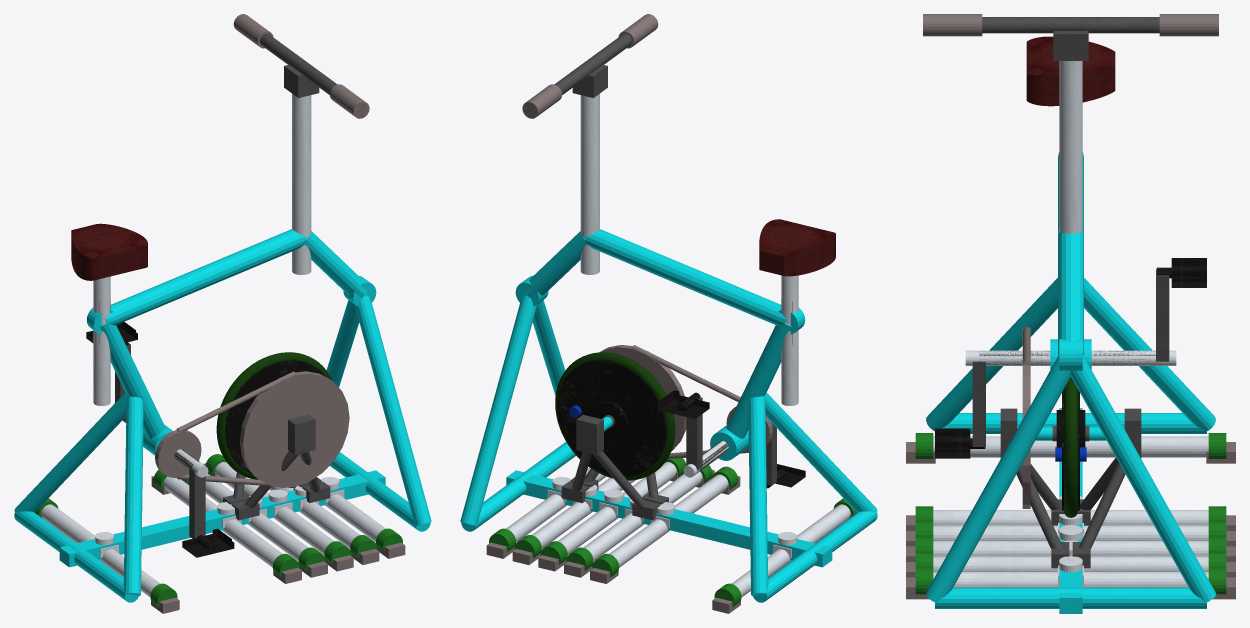
Rendered from Sports_Exercise_bike__0031.glb.
The picture shows the model from 3 angles, left to right: view 1: azimuth 30°, elevation 25°; view 2: azimuth 150°, elevation 25°; view 3: azimuth 270°, elevation 25°; orthographic projection. The views are drawn at different scales.
Visible parts, largest first — view 1: body::frame, body::belt_drive, saddle_post::saddle_pad, handlebar_post::handlebar_post_tube, body::flywheel_axle_support, flywheel::flywheel_disc, saddle_post::saddle_post_tube, flywheel::flywheel_red_ring, stabilizer_foot_4::stabilizer_tube, stabilizer_foot_5::stabilizer_tube, stabilizer_foot_2::stabilizer_tube, crank::crank_body (+8 smaller); view 2: body::frame, flywheel::flywheel_disc, saddle_post::saddle_pad, body::flywheel_axle_support, handlebar_post::handlebar_post_tube, body::belt_drive, flywheel::flywheel_red_ring, stabilizer_foot_4::stabilizer_tube, saddle_post::saddle_post_tube, stabilizer_foot_3::stabilizer_tube, stabilizer_foot_2::stabilizer_tube, crank::crank_body (+8 smaller); view 3: body::frame, body::flywheel_axle_support, handlebar_post::handlebar_post_tube, saddle_post::saddle_pad, stabilizer_foot_0::stabilizer_tube, stabilizer_foot_1::stabilizer_tube, crank::crank_body, stabilizer_foot_2::stabilizer_tube, handlebar_post::handlebar_bar, stabilizer_foot_5::stabilizer_tube, stabilizer_foot_3::stabilizer_tube, stabilizer_foot_4::stabilizer_tube (+11 smaller).
Part boxes in pixels (left/top/right/bottom): body::frame: left=14, top=229, right=431, bottom=602; body::belt_drive: left=155, top=371, right=349, bottom=488; saddle_post::saddle_pad: left=71, top=223, right=147, bottom=280; handlebar_post::handlebar_post_tube: left=292, top=93, right=311, bottom=274; body::flywheel_axle_support: left=223, top=414, right=330, bottom=520; flywheel::flywheel_disc: left=225, top=360, right=324, bottom=474; saddle_post::saddle_post_tube: left=93, top=276, right=110, bottom=405; flywheel::flywheel_red_ring: left=216, top=352, right=332, bottom=479; stabilizer_foot_4::stabilizer_tube: left=163, top=476, right=282, bottom=567; stabilizer_foot_5::stabilizer_tube: left=41, top=504, right=160, bottom=597; stabilizer_foot_2::stabilizer_tube: left=215, top=462, right=333, bottom=554; crank::crank_body: left=115, top=343, right=205, bottom=538; body::frame: left=460, top=229, right=877, bottom=602; flywheel::flywheel_disc: left=557, top=360, right=666, bottom=477; saddle_post::saddle_pad: left=759, top=219, right=835, bottom=276; body::flywheel_axle_support: left=561, top=414, right=668, bottom=520; handlebar_post::handlebar_post_tube: left=580, top=93, right=599, bottom=274; body::belt_drive: left=600, top=345, right=772, bottom=459; flywheel::flywheel_red_ring: left=555, top=352, right=675, bottom=480; stabilizer_foot_4::stabilizer_tube: left=609, top=474, right=728, bottom=567; saddle_post::saddle_post_tube: left=781, top=275, right=798, bottom=405; stabilizer_foot_3::stabilizer_tube: left=583, top=472, right=702, bottom=561; stabilizer_foot_2::stabilizer_tube: left=558, top=462, right=676, bottom=554; crank::crank_body: left=686, top=397, right=776, bottom=485; body::frame: left=925, top=152, right=1216, bottom=613; body::flywheel_axle_support: left=1000, top=408, right=1141, bottom=568; handlebar_post::handlebar_post_tube: left=1059, top=61, right=1082, bottom=233; saddle_post::saddle_pad: left=1026, top=36, right=1115, bottom=106; stabilizer_foot_0::stabilizer_tube: left=933, top=572, right=1208, bottom=587; stabilizer_foot_1::stabilizer_tube: left=933, top=556, right=1208, bottom=571; crank::crank_body: left=972, top=269, right=1169, bottom=446; stabilizer_foot_2::stabilizer_tube: left=933, top=541, right=1208, bottom=556; handlebar_post::handlebar_bar: left=982, top=17, right=1159, bottom=33; stabilizer_foot_5::stabilizer_tube: left=933, top=436, right=1208, bottom=457; stabilizer_foot_3::stabilizer_tube: left=933, top=525, right=1208, bottom=540; stabilizer_foot_4::stabilizer_tube: left=933, top=510, right=1208, bottom=525.
Bounding box in the file's own units: 0.76 × 1.05 × 0.5575.
Materials: 10 (9 with a texture image).
